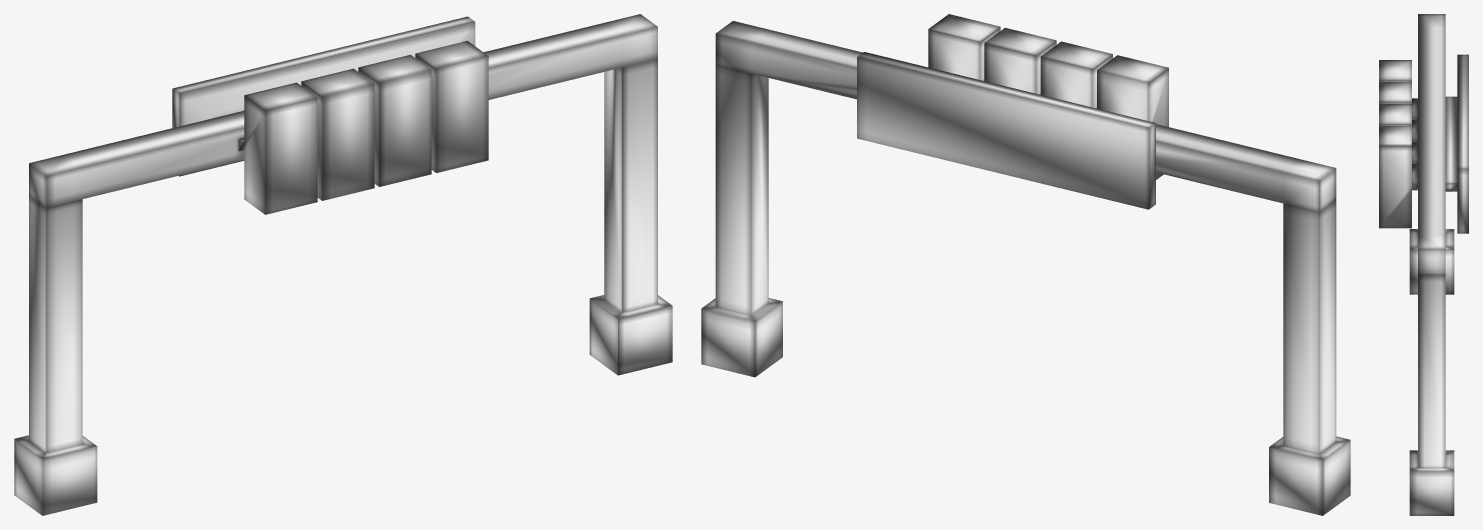
Rendered from Race-Start-01.fbx.
3 renders of one model, left to right at view 1: azimuth 30°, elevation 25°; view 2: azimuth 150°, elevation 25°; view 3: azimuth 270°, elevation 25°, orthographic. The views are drawn at different scales.
Visible parts, largest first — view 1: Race-Start; view 2: Race-Start; view 3: Race-Start.
Part boxes in pixels (left/top/right/bottom): Race-Start: left=14, top=14, right=672, bottom=515; Race-Start: left=701, top=14, right=1350, bottom=515; Race-Start: left=1379, top=14, right=1468, bottom=515.
Size of the model in its own units: 2.48 by 1.39 by 0.3883.
